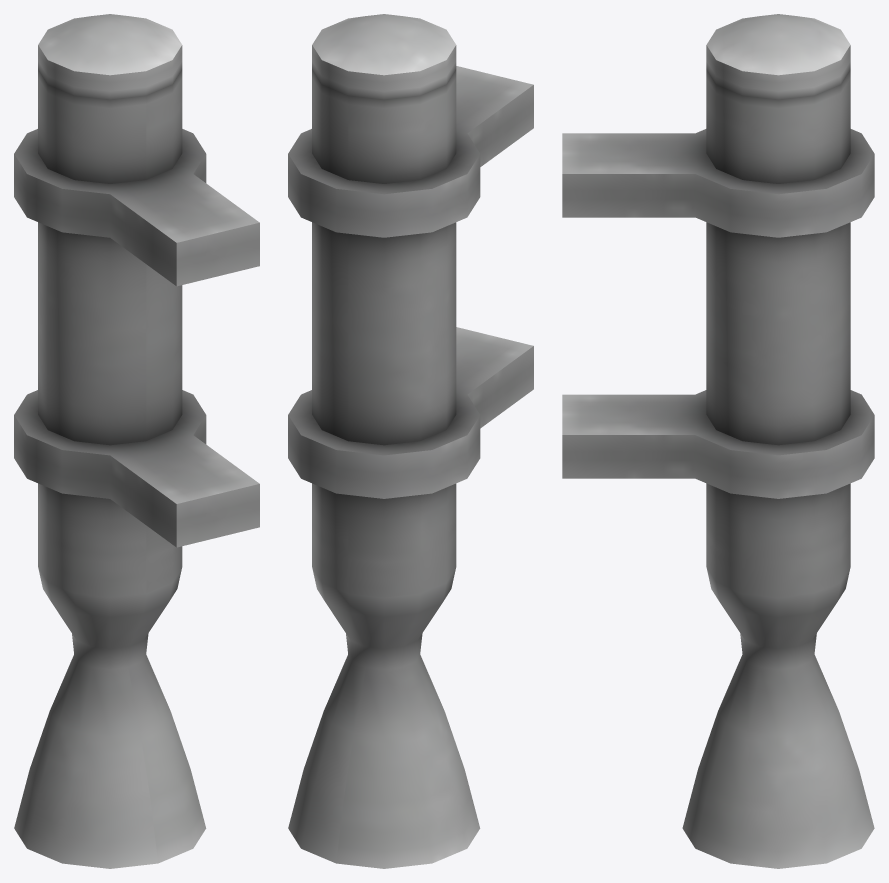
The model's file is lepus_rocket_motor_srf_2.obj.
3 views of the same model, side by side, from view 1: azimuth 30°, elevation 25°; view 2: azimuth 150°, elevation 25°; view 3: azimuth 270°, elevation 25° (orthographic).
Visible parts, largest first — view 1: lepus_rocket_motor_srf_2; view 2: lepus_rocket_motor_srf_2; view 3: lepus_rocket_motor_srf_2.
Boxes of the visible parts, x1,y1,x2,y2 form: lepus_rocket_motor_srf_2: [14, 14, 259, 868]; lepus_rocket_motor_srf_2: [288, 14, 533, 868]; lepus_rocket_motor_srf_2: [562, 14, 874, 868].
Size of the model in its own units: 0.1 by 0.4625 by 0.1625.
